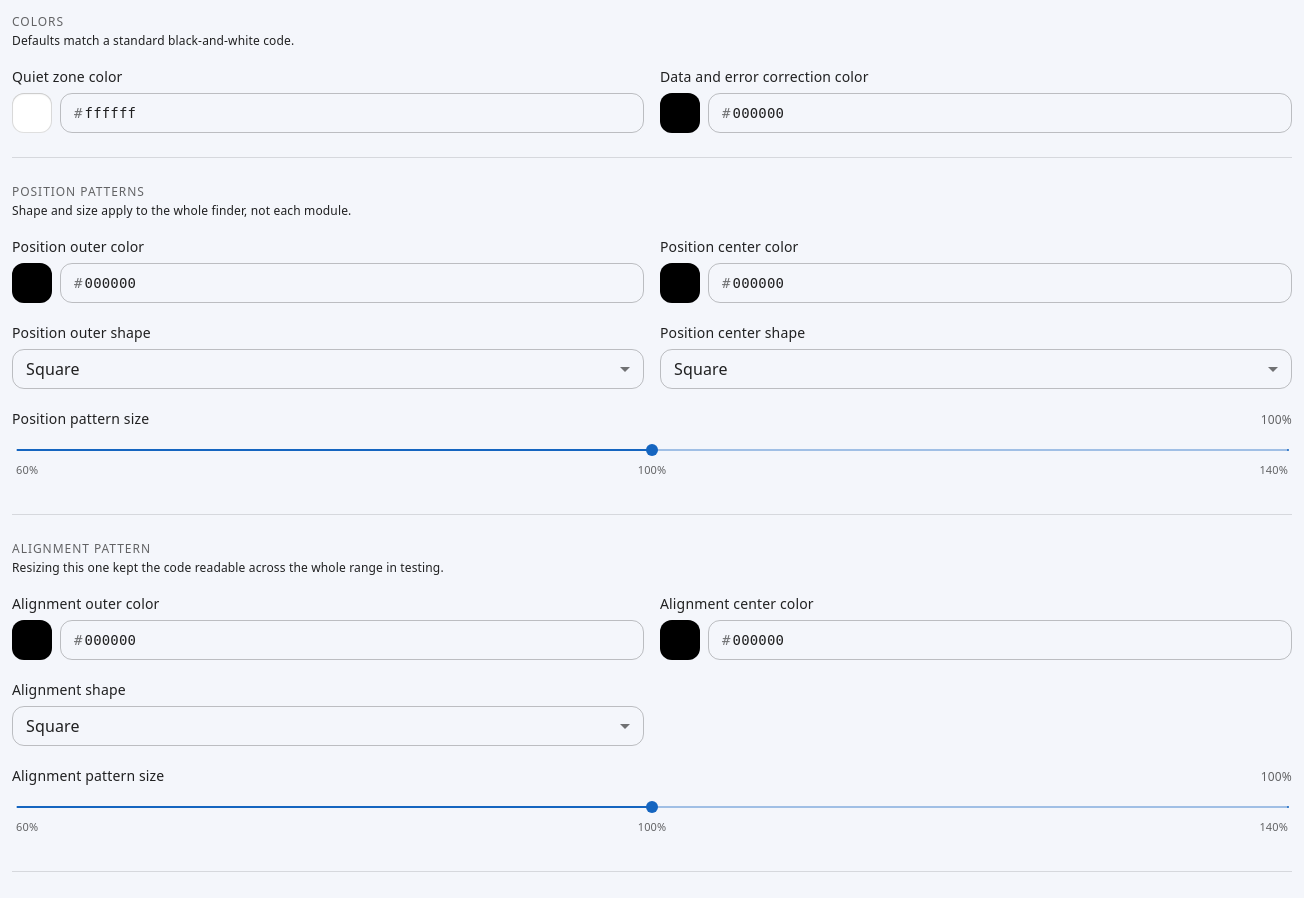
Test case: QrStyleForm › ignores incomplete hex and restores the committed value on blur
Replace the text in the field named "Quiet zone color hex" with "#fff" at [363, 113], box [83, 94, 644, 132]
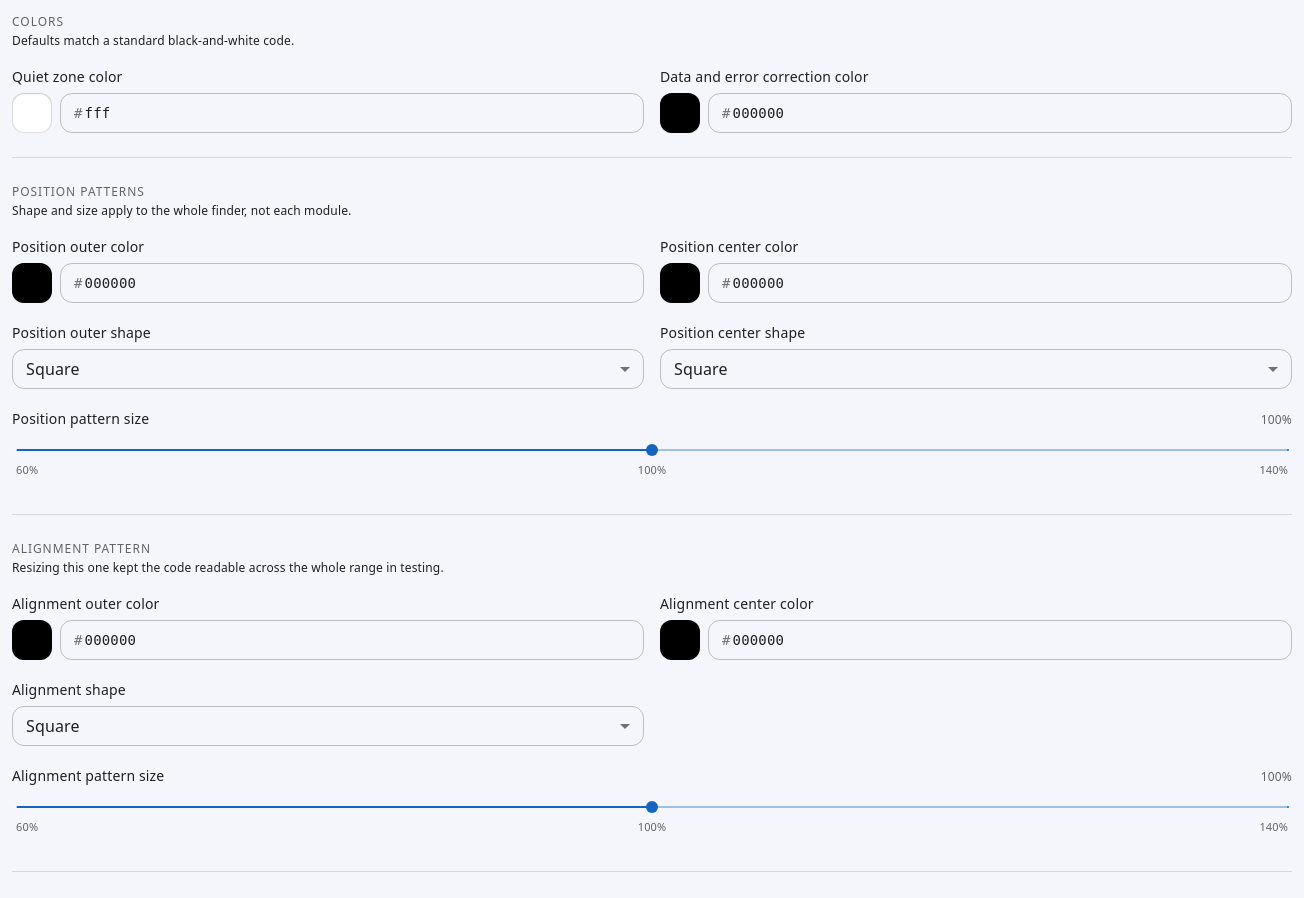
Leave the field named "Quiet zone color hex", box [83, 94, 644, 132]
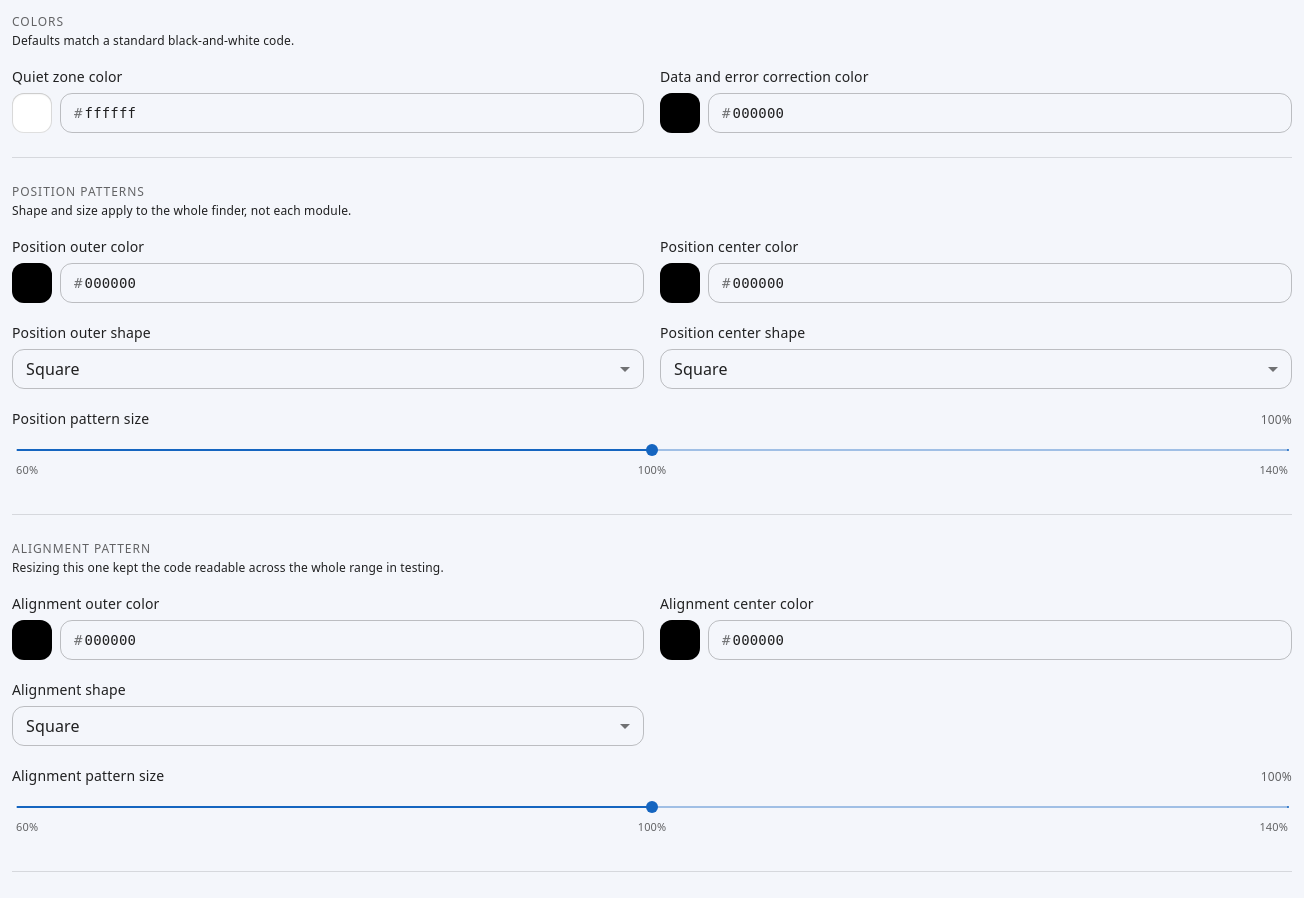
Expected: the field named "Quiet zone color hex" holds "ffffff", [83, 94, 644, 132]
